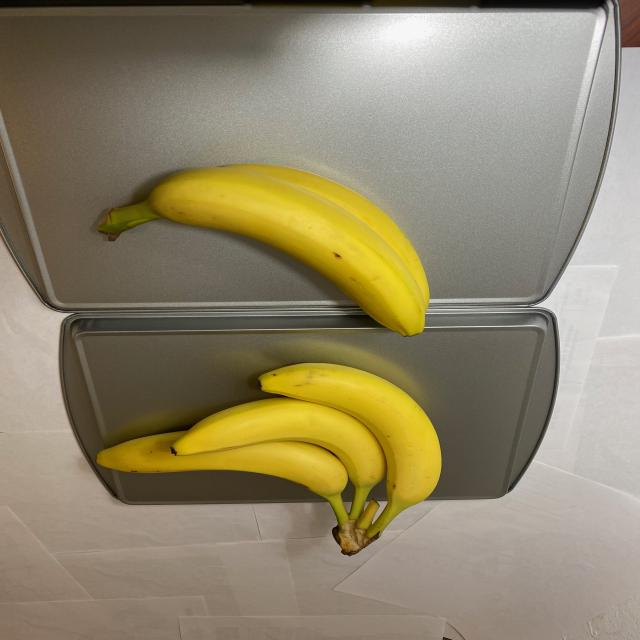banana: (86, 360, 448, 557), (80, 161, 442, 341)
